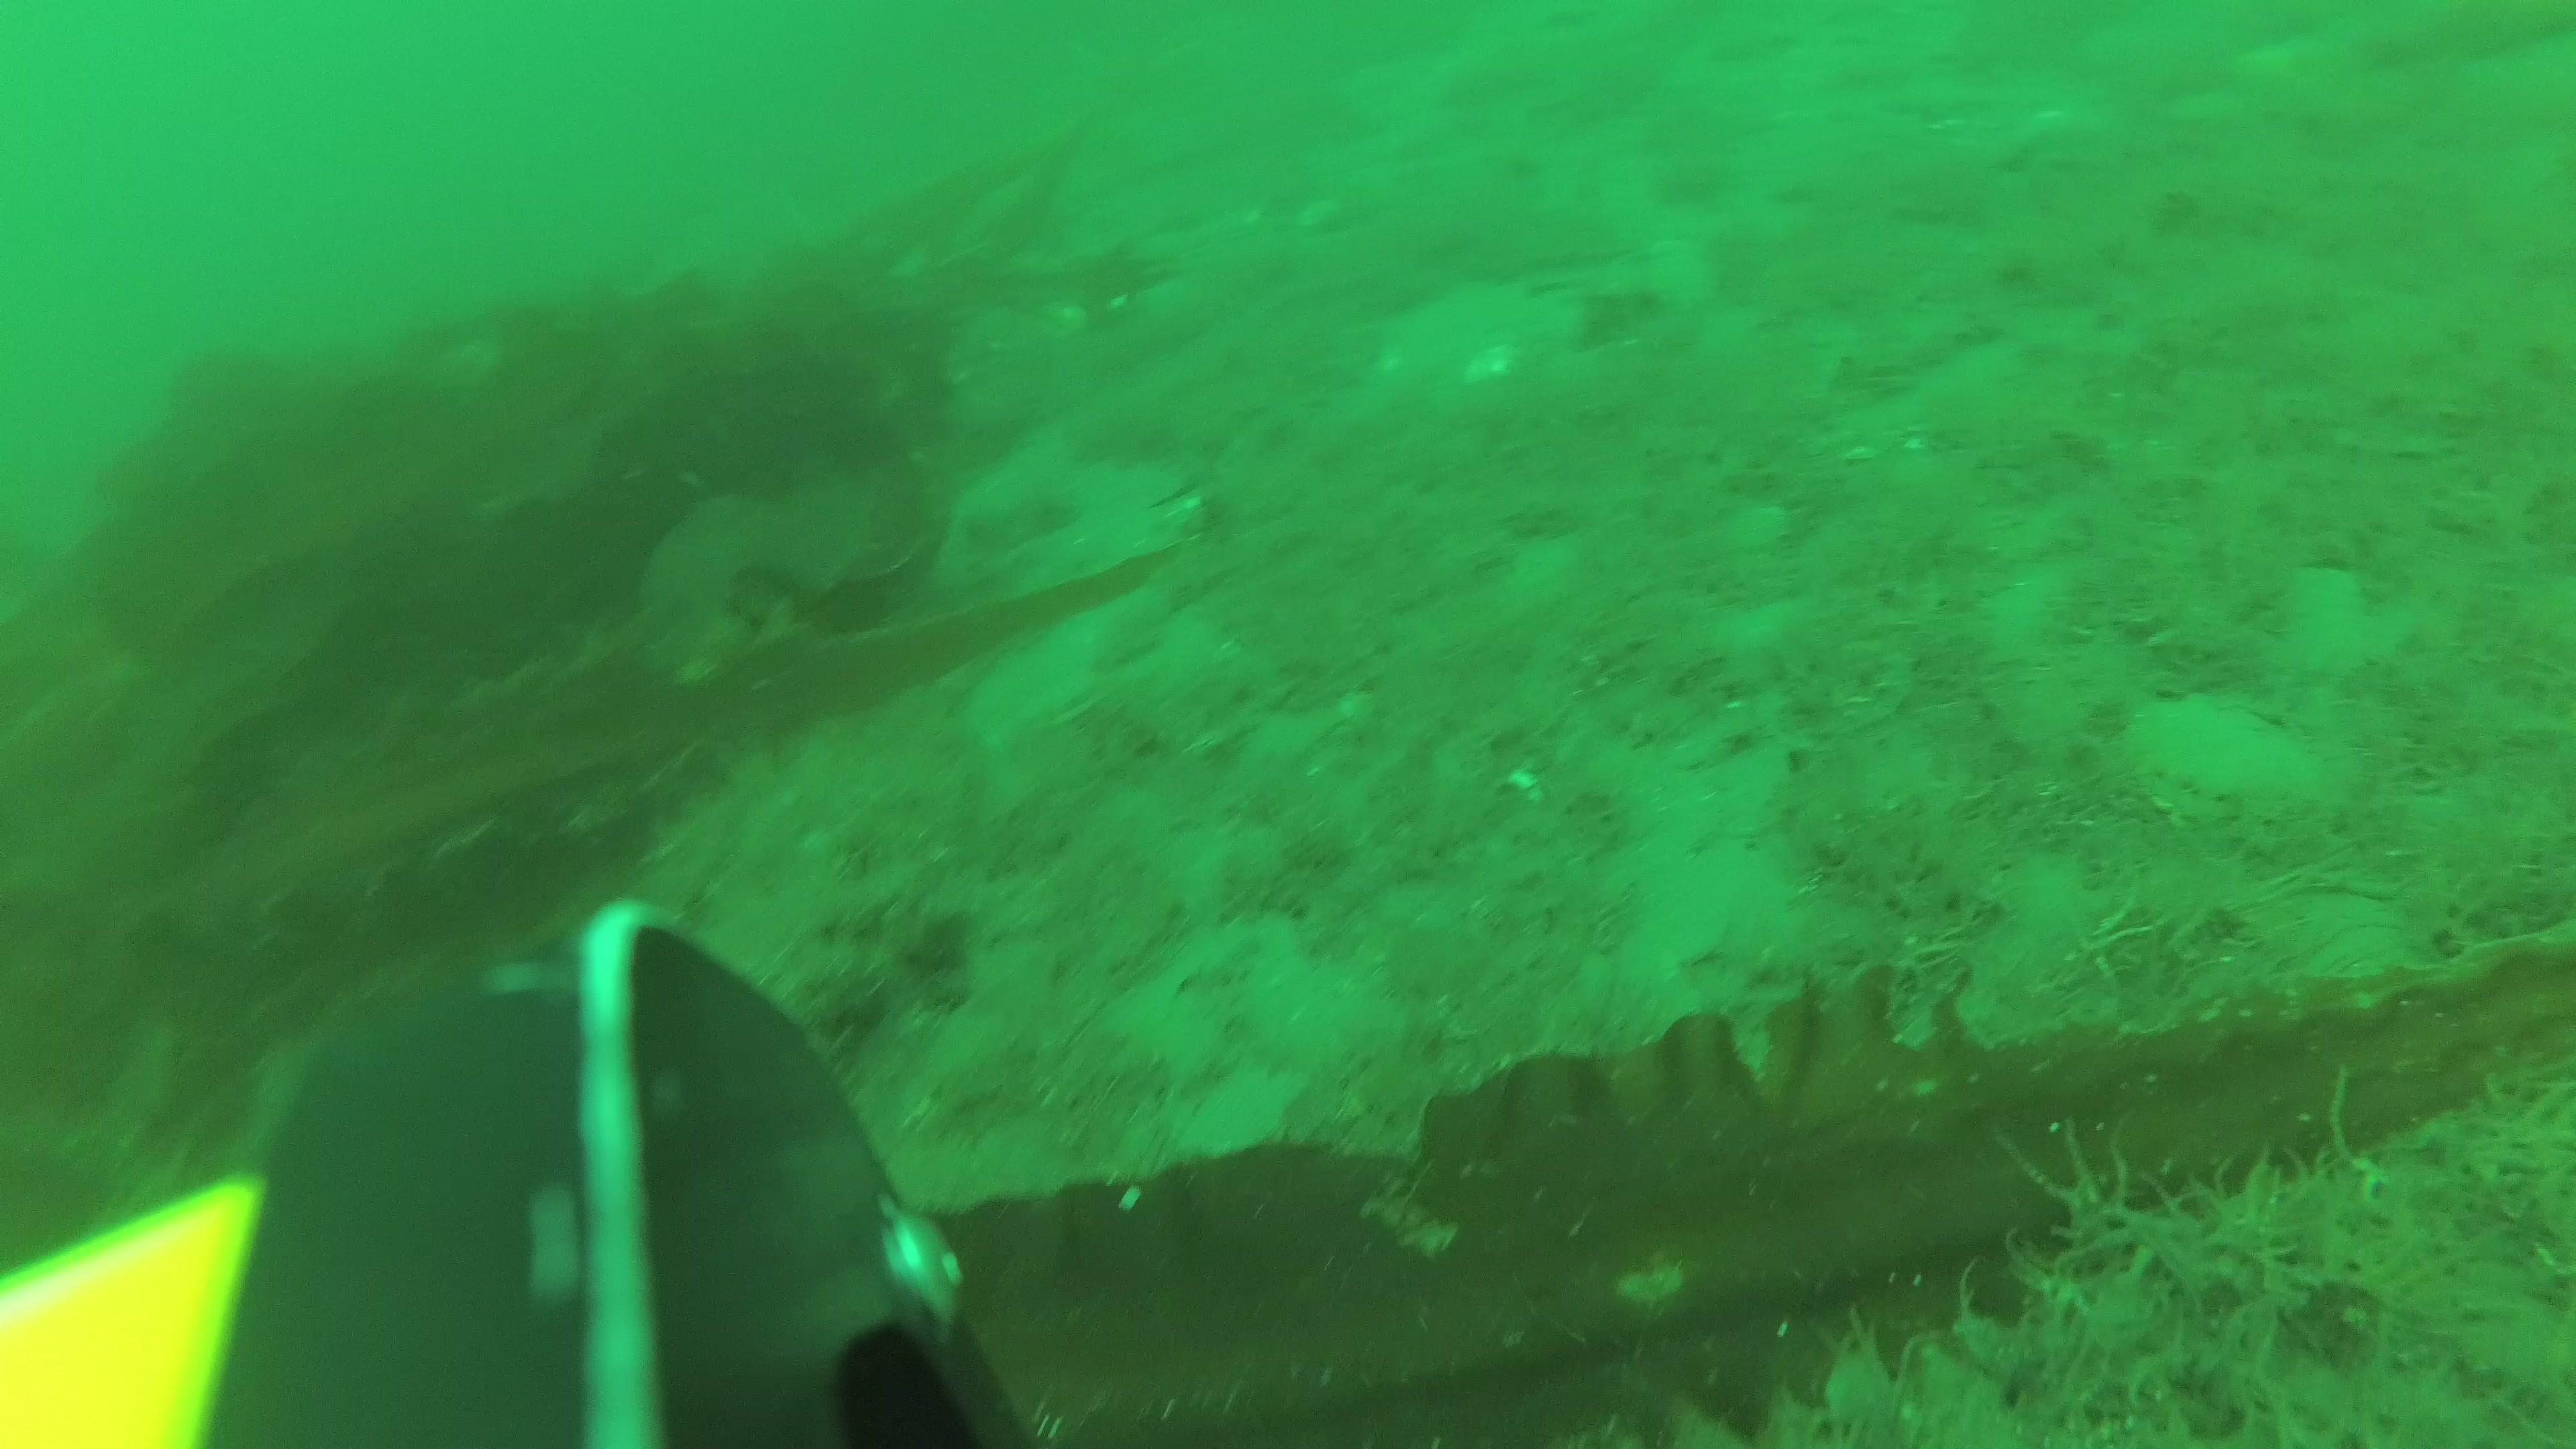scallop: (2121, 688, 2337, 819), (2242, 557, 2364, 676)
